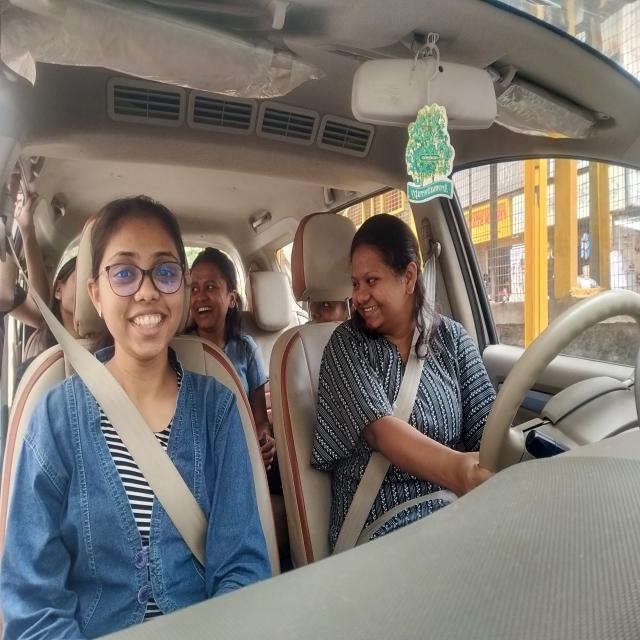LeftRight: (347, 212, 430, 334)
person: (88, 198, 190, 360), (192, 246, 245, 340), (52, 250, 78, 318), (307, 297, 348, 326)
talking: (359, 302, 387, 318)
